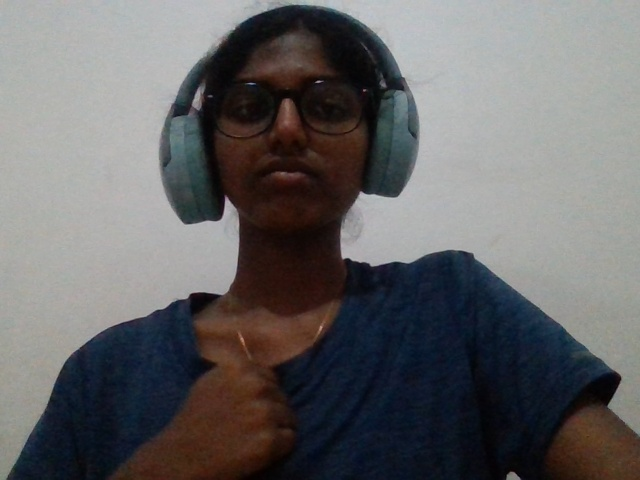Sorry: (104, 331, 325, 480)
